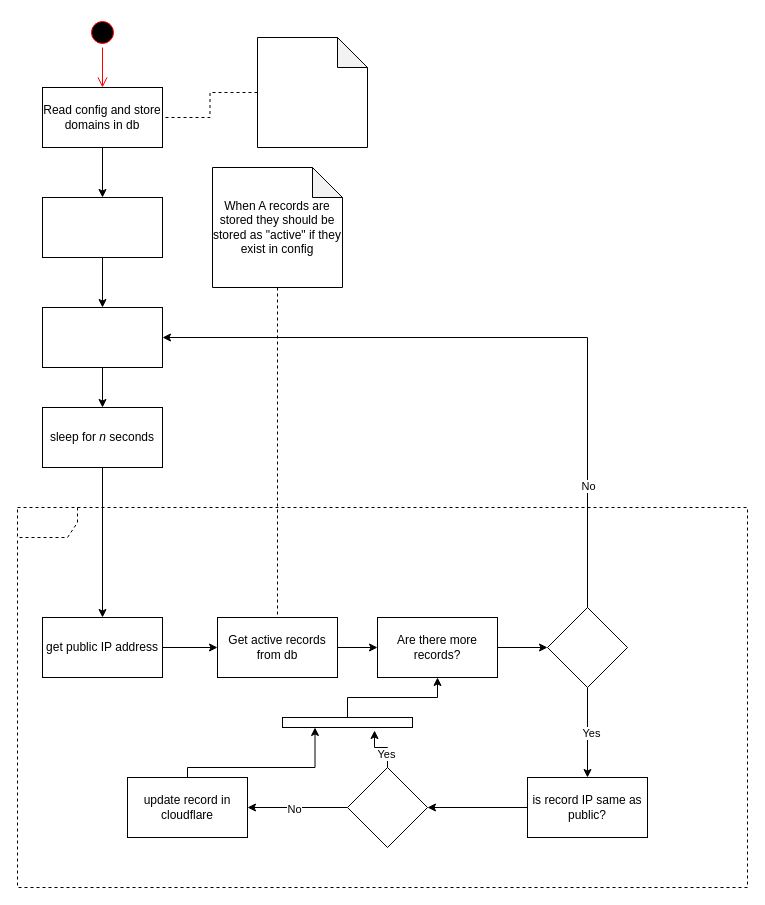
The diagram is 765 pixels wide and 905 high, and some of its shapes have lost their labels. The shapes that lost their labels are listed below. From the top down, each one's box as (x1, y1, x2, y2) in pixels, then its label:
(256, 36, 368, 148): config has domains that should be activated
(42, 196, 162, 258): get all A records from Cloudflare
(42, 306, 162, 368): store a records in database
(16, 506, 748, 888): Loop
